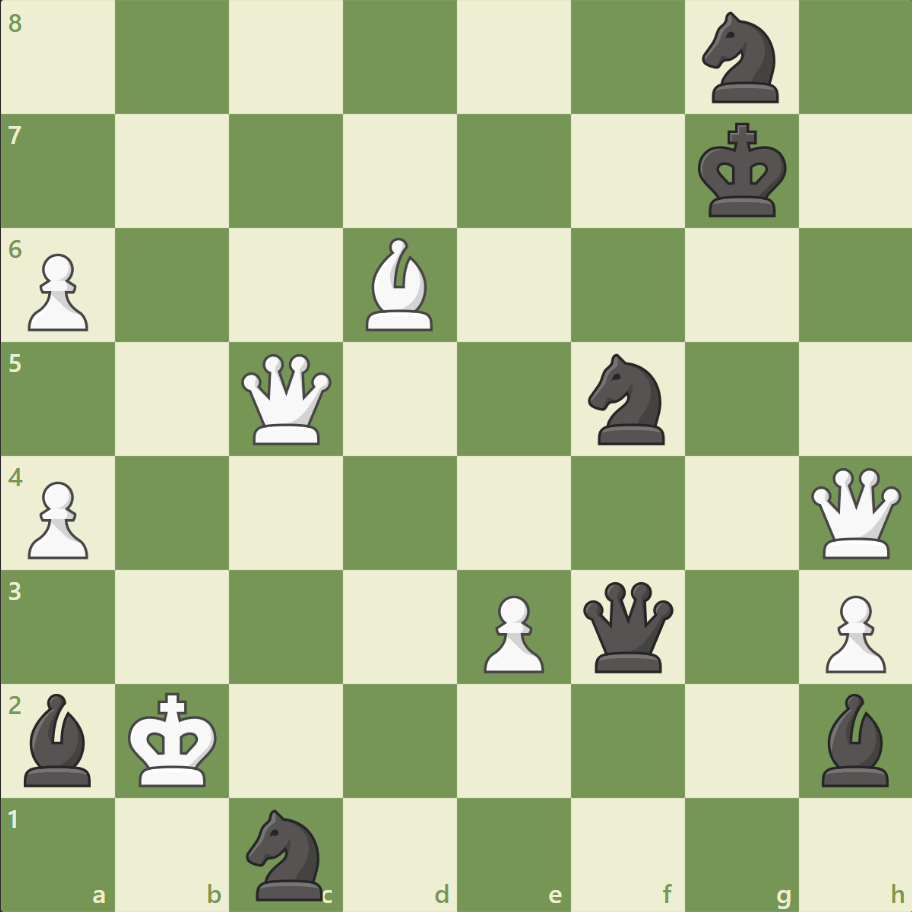B: (358, 233, 442, 336)
K: (124, 685, 224, 793)
P: (20, 246, 95, 337), (20, 473, 95, 564), (474, 586, 549, 677), (815, 586, 889, 677)
Q: (237, 349, 336, 449), (805, 463, 904, 562)
b: (17, 687, 101, 790), (812, 687, 896, 790)
k: (692, 117, 792, 225)
n: (692, 7, 789, 110), (579, 348, 676, 450), (238, 802, 335, 904)
q: (578, 576, 677, 676)
